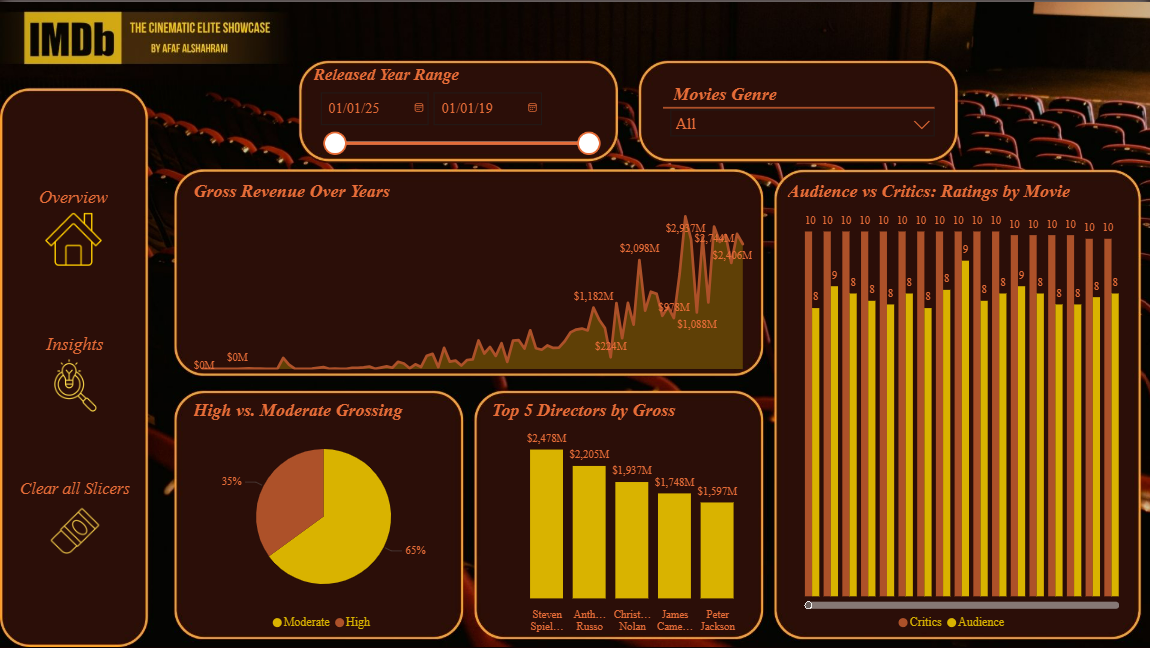

The page's visual inventory and layout, read from the dashboard file:
{"tool":"powerbi","page":{"name":"Insights","canvas":[1280,720],"ordinal":1},"visuals":[{"type":"slicer","title":"Released Year Range","fields":{"Values":["imdb_top.Released_Year"]},"box":[343.3,70,331.7,101.7],"z":0},{"type":"slicer","title":"Top Movies ","fields":{"Values":["imdb_top.Genre"]},"box":[735,85,313.3,66.7],"z":1000},{"type":"shape","box":[736.7,106.7,301.7,21.7],"z":2000},{"type":"lineChart","title":"Gross Revenue Over Years","fields":{"Y":["Sum(imdb_top.Gross)"],"Category":["imdb_top.Released_Year.Variation.Date Hierarchy.Year"]},"box":[210,198.3,630,215],"z":3000},{"type":"clusteredColumnChart","title":"Audience vs Critics: Ratings by Movie","fields":{"Y":["_Measures.Meta_Score_Out_of_10","_Measures.Average IMDb Rating"],"Category":["imdb_top.Movie_Title"]},"box":[870,198.3,378.3,510],"z":4000},{"type":"columnChart","title":"Top 5 Directors by Gross","fields":{"Category":["imdb_top.Director"],"Y":["Sum(imdb_top.Gross)"]},"box":[541.7,441.7,298.3,266.7],"z":5000},{"type":"pieChart","title":"High vs. Moderate Grossing","fields":{"Category":["imdb_top.Order category"],"Y":["Sum(imdb_top.Gross)"]},"box":[210,441.7,298.3,266.7],"z":6000},{"type":"image","title":"Clear all Slicers","box":[19.5,530.3,126.9,89.5],"z":7000},{"type":"image","title":"Overview","box":[19,204.6,126.7,90],"z":8000},{"type":"image","title":"Insights","box":[19.5,367.6,126.9,87.8],"z":9000}]}

Visuals, with their boxes in screenshot pixels (x1, y1, x2, y2), scaled from the page's 1280x720 canvas onto the 1150x648 screenshot:
"Released Year Range" slicer: {"x1": 308, "y1": 63, "x2": 606, "y2": 155}
"Top Movies " slicer: {"x1": 660, "y1": 76, "x2": 942, "y2": 137}
shape: {"x1": 662, "y1": 96, "x2": 933, "y2": 116}
"Gross Revenue Over Years" lineChart: {"x1": 189, "y1": 178, "x2": 755, "y2": 372}
"Audience vs Critics: Ratings by Movie" clusteredColumnChart: {"x1": 782, "y1": 178, "x2": 1122, "y2": 637}
"Top 5 Directors by Gross" columnChart: {"x1": 487, "y1": 398, "x2": 755, "y2": 638}
"High vs. Moderate Grossing" pieChart: {"x1": 189, "y1": 398, "x2": 457, "y2": 638}
"Clear all Slicers" image: {"x1": 18, "y1": 477, "x2": 132, "y2": 558}
"Overview" image: {"x1": 17, "y1": 184, "x2": 131, "y2": 265}
"Insights" image: {"x1": 18, "y1": 331, "x2": 132, "y2": 410}
